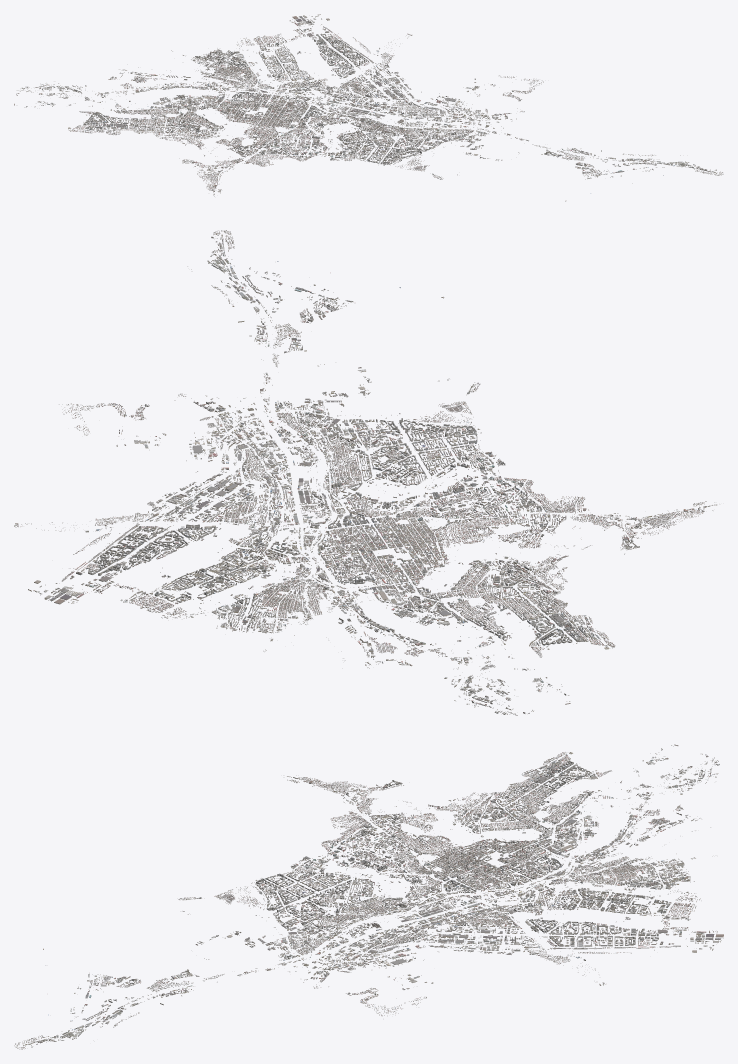
The model's file is buildings.glb.
3 renders of one model, top to bottom at view 1: azimuth 30°, elevation 25°; view 2: azimuth 150°, elevation 25°; view 3: azimuth 270°, elevation 25°, orthographic. The views are drawn at different scales.
Parts seen in each view (by area): view 1: city_0_0, city_-2_-1, city_1_0, city_0_-2, city_0_-1, city_-1_1, city_-1_-1, city_1_1, city_2_1, city_1_-1, city_-1_0, city_1_2 (+15 smaller); view 2: city_0_0, city_-2_-1, city_0_-1, city_-1_-1, city_-1_1, city_1_1, city_0_-2, city_1_0, city_-1_0, city_2_1, city_1_2, city_1_-1 (+15 smaller); view 3: city_0_0, city_-2_-1, city_-1_1, city_1_1, city_0_-1, city_-1_-1, city_0_-2, city_1_0, city_-1_0, city_2_1, city_1_2, city_0_2 (+16 smaller).
Part boxes in pixels (left/top/right/bottom): city_0_0: left=265, top=99, right=344, bottom=132; city_-2_-1: left=130, top=103, right=206, bottom=136; city_1_0: left=317, top=85, right=397, bottom=121; city_0_-2: left=204, top=55, right=283, bottom=88; city_0_-1: left=232, top=75, right=311, bottom=109; city_-1_1: left=240, top=134, right=318, bottom=165; city_-1_-1: left=178, top=91, right=258, bottom=124; city_1_1: left=346, top=109, right=428, bottom=142; city_2_1: left=399, top=96, right=480, bottom=131; city_1_-1: left=285, top=61, right=367, bottom=98; city_-1_0: left=209, top=112, right=290, bottom=143; city_1_2: left=378, top=131, right=443, bottom=164; city_0_0: left=304, top=496, right=437, bottom=549; city_-2_-1: left=427, top=573, right=560, bottom=627; city_0_-1: left=256, top=535, right=382, bottom=588; city_-1_-1: left=343, top=554, right=474, bottom=610; city_-1_1: left=442, top=476, right=572, bottom=532; city_1_1: left=268, top=439, right=404, bottom=495; city_0_-2: left=210, top=566, right=334, bottom=621; city_1_0: left=221, top=476, right=353, bottom=531; city_-1_0: left=394, top=515, right=523, bottom=572; city_2_1: left=189, top=418, right=315, bottom=475; city_1_2: left=320, top=413, right=452, bottom=456; city_1_-1: left=173, top=508, right=300, bottom=565; city_0_0: left=410, top=860, right=493, bottom=898; city_-2_-1: left=490, top=789, right=576, bottom=828; city_-1_1: left=329, top=821, right=411, bottom=861; city_1_1: left=328, top=894, right=411, bottom=932; city_0_-1: left=492, top=861, right=575, bottom=897; city_-1_-1: left=492, top=826, right=575, bottom=863; city_0_-2: left=574, top=861, right=658, bottom=896; city_1_0: left=408, top=897, right=494, bottom=932; city_-1_0: left=410, top=823, right=493, bottom=862; city_2_1: left=327, top=931, right=411, bottom=966; city_1_2: left=247, top=893, right=330, bottom=932; city_0_2: left=247, top=856, right=330, bottom=895.
Size of the model in its own units: 17489 by 232 by 17334.
